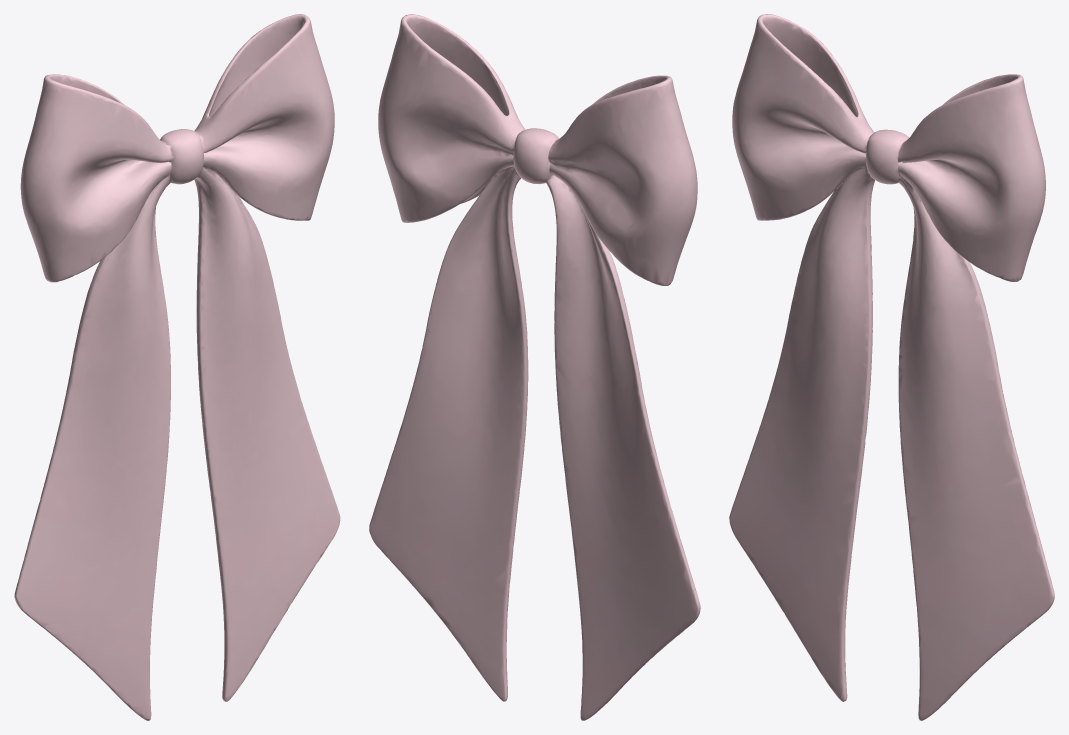
3 renders of one model, left to right at view 1: azimuth 30°, elevation 25°; view 2: azimuth 150°, elevation 25°; view 3: azimuth 330°, elevation 25°, orthographic.
Size of the model in its own units: 0.9828 by 1.9 by 0.1619.
1 material, 1 textured.
